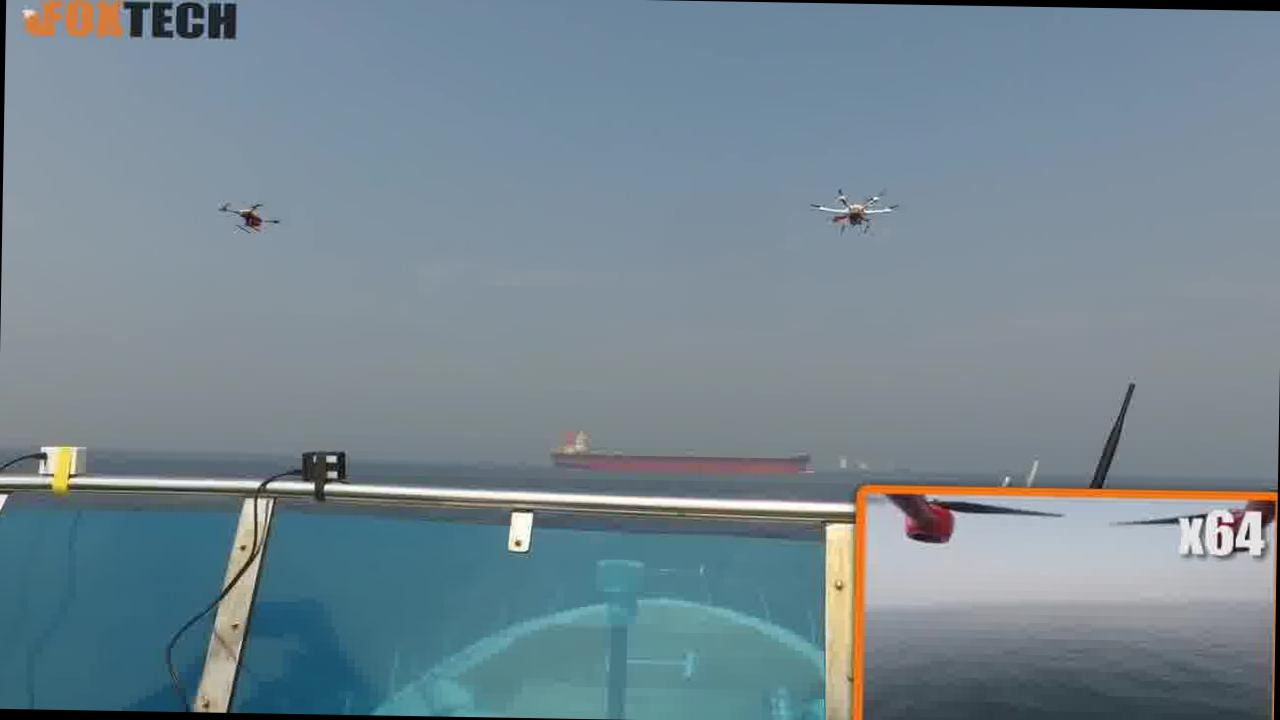drone: (789, 160, 907, 248), (190, 185, 290, 249)
